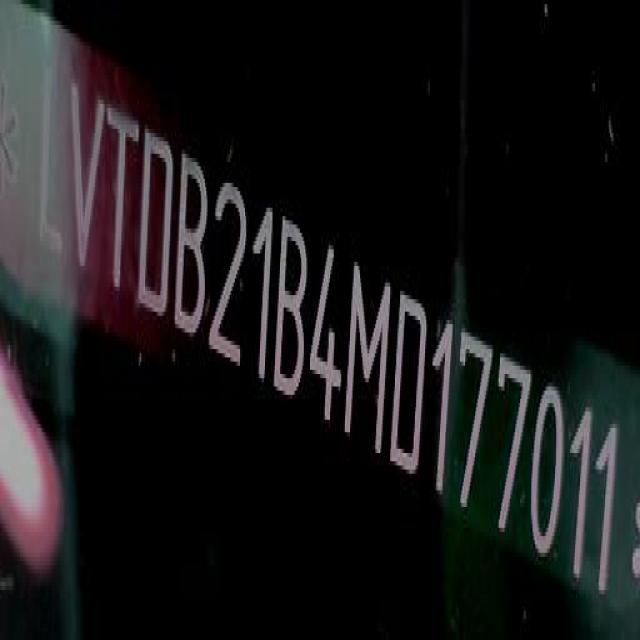0: (526, 372, 570, 566)
1: (591, 408, 624, 606), (564, 398, 596, 590), (426, 310, 456, 503), (251, 198, 276, 387)
2: (208, 176, 248, 374)
4: (307, 240, 346, 431)
7: (450, 324, 493, 526), (491, 351, 534, 551)
B: (174, 152, 210, 346), (274, 212, 310, 400)
D: (388, 286, 430, 486), (135, 120, 173, 320)
L: (37, 51, 68, 277)
M: (343, 263, 391, 458)
T: (102, 95, 140, 306)
V: (69, 79, 106, 284)
